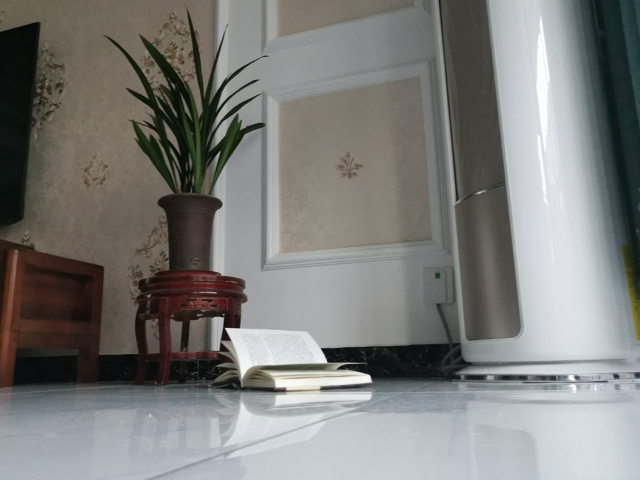book: (210, 325, 376, 392)
cabinet: (1, 238, 106, 390)
stool: (131, 269, 250, 388)
wire: (435, 302, 467, 381)
